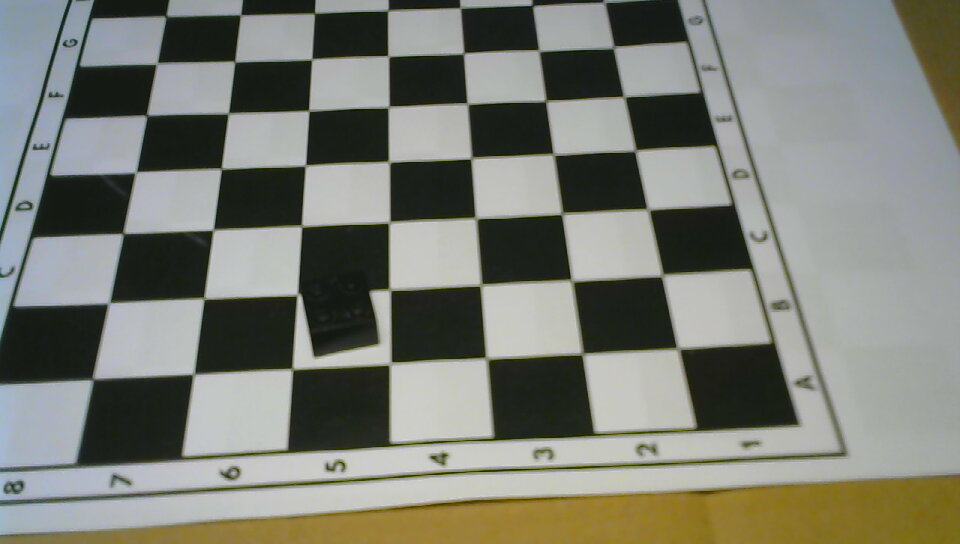bp: (298, 272, 381, 356)
